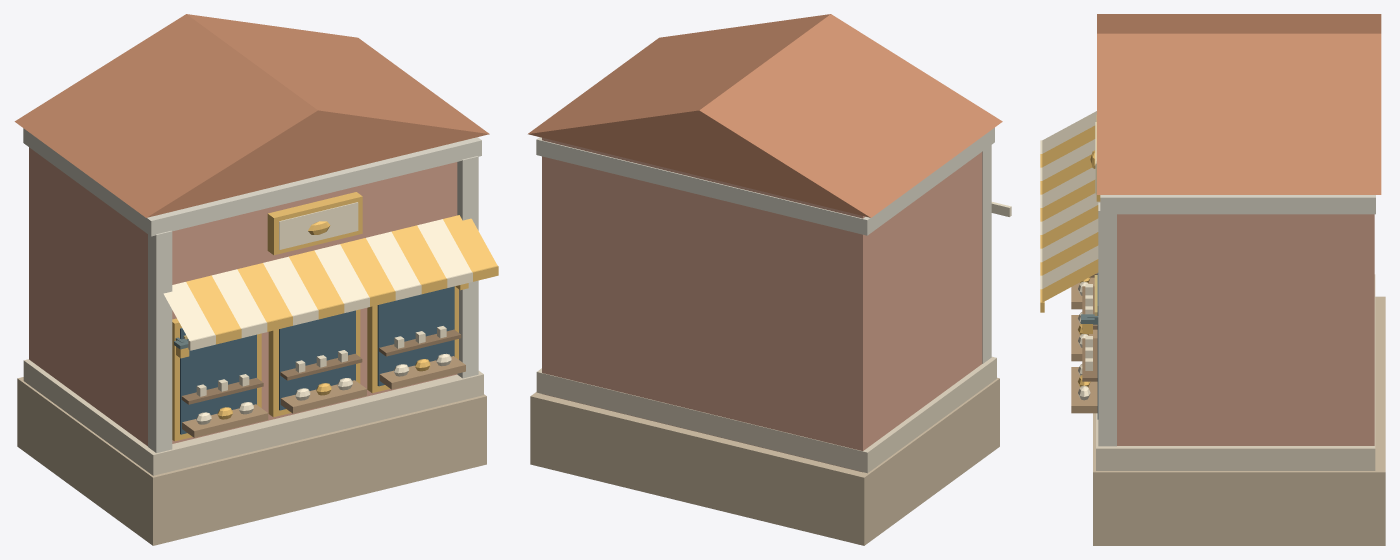
File: Cafe.glb
The picture shows the model from 3 angles, left to right: view 1: azimuth 30°, elevation 25°; view 2: azimuth 150°, elevation 25°; view 3: azimuth 270°, elevation 25°; orthographic projection. The views are drawn at different scales.
Visible parts, largest first — view 1: Cafe; view 2: Cafe; view 3: Cafe.
Part boxes in pixels (bbox=[...]): Cafe: bbox=[14, 14, 498, 545]; Cafe: bbox=[528, 14, 1011, 545]; Cafe: bbox=[1040, 14, 1385, 545].
Size of the model in its own units: 6.96 by 7.61 by 5.62.
